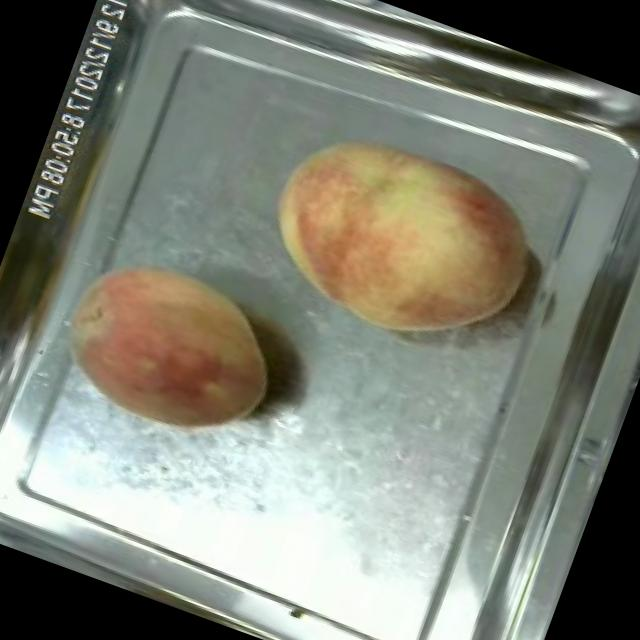Fruit: (238, 102, 558, 380), (36, 230, 306, 468)
